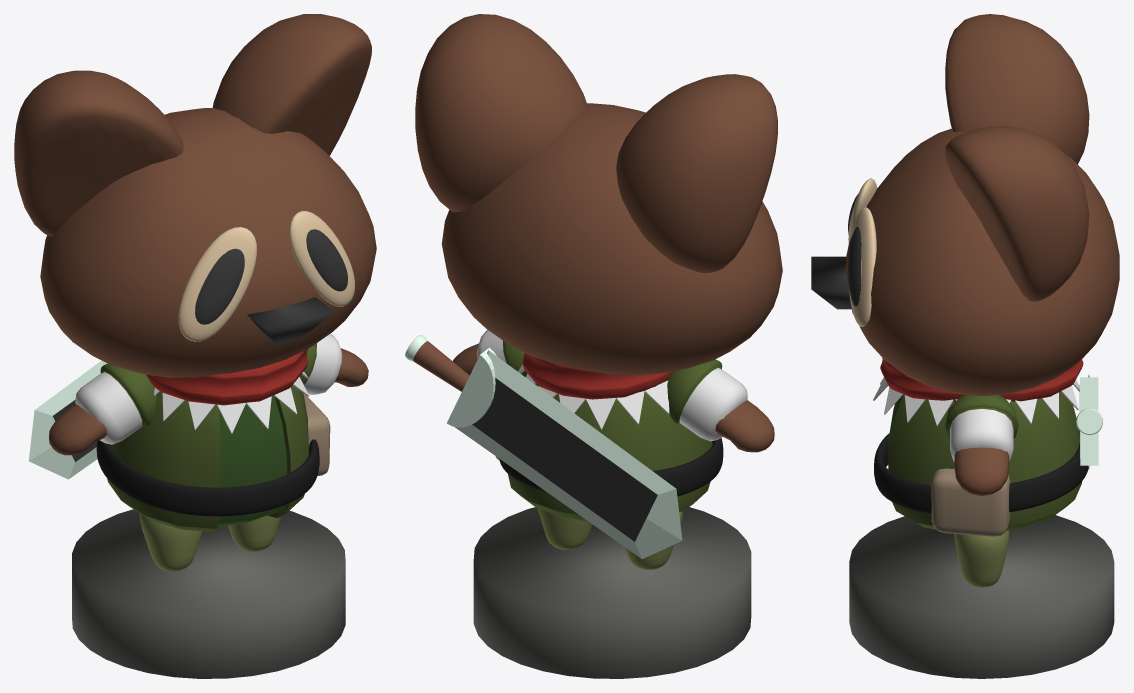
Rendered from BerserkMouse_mat.glb.
3 renders of one model, left to right at view 1: azimuth 30°, elevation 25°; view 2: azimuth 150°, elevation 25°; view 3: azimuth 270°, elevation 25°, orthographic. The views are drawn at different scales.
Parts seen in each view (by area): view 1: Head, Poser, Ears, body, Belt, eyes, tshirt, scarf, Legs, Berserk Sword.blade, shirt_arm_right, Nose (+8 smaller); view 2: Head, Ears, Poser, Berserk Sword.blade, body, scarf, shirt_arm_right, Belt, Berserk Sword_top, Legs, hand.right, scarf pointy thing (+2 smaller); view 3: Head, Poser, Ears, body, Belt, Bag, shirt_arm_left, eyes, scarf, Legs, hand.left, scarf pointy thing (+5 smaller).
Part boxes in pixels (<box>): Head: <box>40,108,376,377</box>; Poser: <box>72,509,345,678</box>; Ears: <box>14,14,371,236</box>; body: <box>107,385,308,531</box>; Belt: <box>96,439,319,516</box>; eyes: <box>178,211,354,341</box>; tshirt: <box>217,395,287,526</box>; scarf: <box>146,349,307,405</box>; Legs: <box>139,513,280,571</box>; Berserk Sword.blade: <box>28,360,107,479</box>; shirt_arm_right: <box>75,372,142,444</box>; Nose: <box>247,297,335,345</box>; Head: <box>441,103,782,375</box>; Ears: <box>415,14,777,272</box>; Poser: <box>473,507,751,678</box>; Berserk Sword.blade: <box>455,350,682,559</box>; body: <box>508,371,712,521</box>; scarf: <box>522,353,671,399</box>; shirt_arm_right: <box>679,368,747,441</box>; Belt: <box>499,438,723,496</box>; Berserk Sword_top: <box>447,347,496,427</box>; Legs: <box>537,508,682,569</box>; hand.right: <box>715,400,774,452</box>; scarf pointy thing: <box>518,364,669,429</box>; Head: <box>845,128,1119,396</box>; Poser: <box>849,515,1114,678</box>; Ears: <box>945,14,1089,301</box>; body: <box>888,391,1082,530</box>; Belt: <box>874,431,1088,513</box>; Bag: <box>931,468,1010,536</box>; shirt_arm_left: <box>950,409,1013,461</box>; eyes: <box>848,178,877,326</box>; scarf: <box>880,358,1083,401</box>; Legs: <box>954,530,1009,587</box>; hand.left: <box>954,447,1009,495</box>; scarf pointy thing: <box>873,377,1079,425</box>.
Size of the model in its own units: 2.88 by 4.54 by 2.33.
